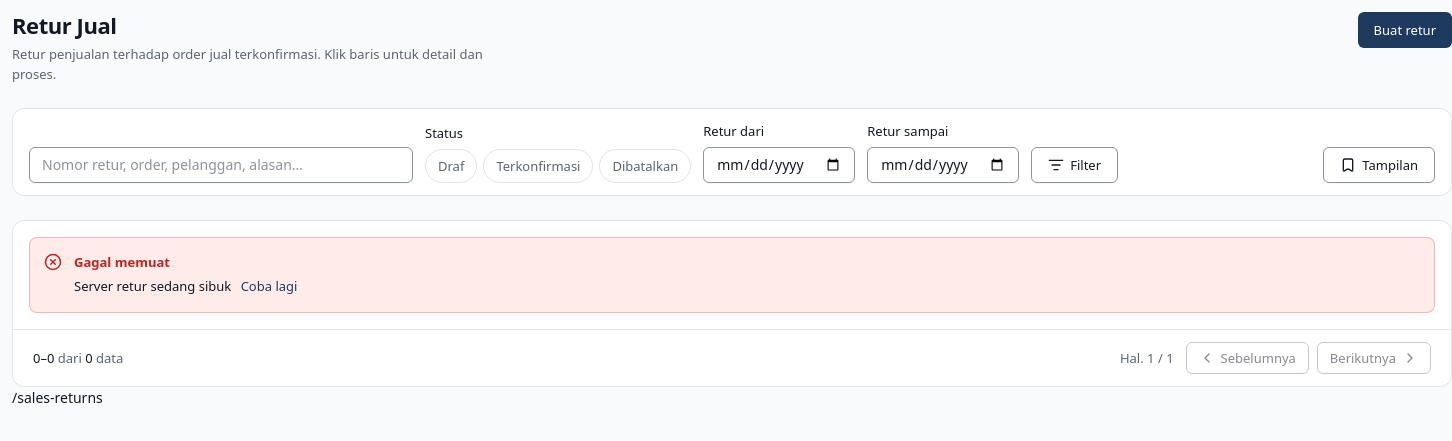
Scenario: daftar retur jual › galat memuat menampilkan pesan server dan Coba lagi memuat ulang
Expected: the text "Server retur sedang sibuk Coba lagi" is shown, [74,274,303,298]
Click the button "Coba lagi": [269, 286] box [235,274,303,298]
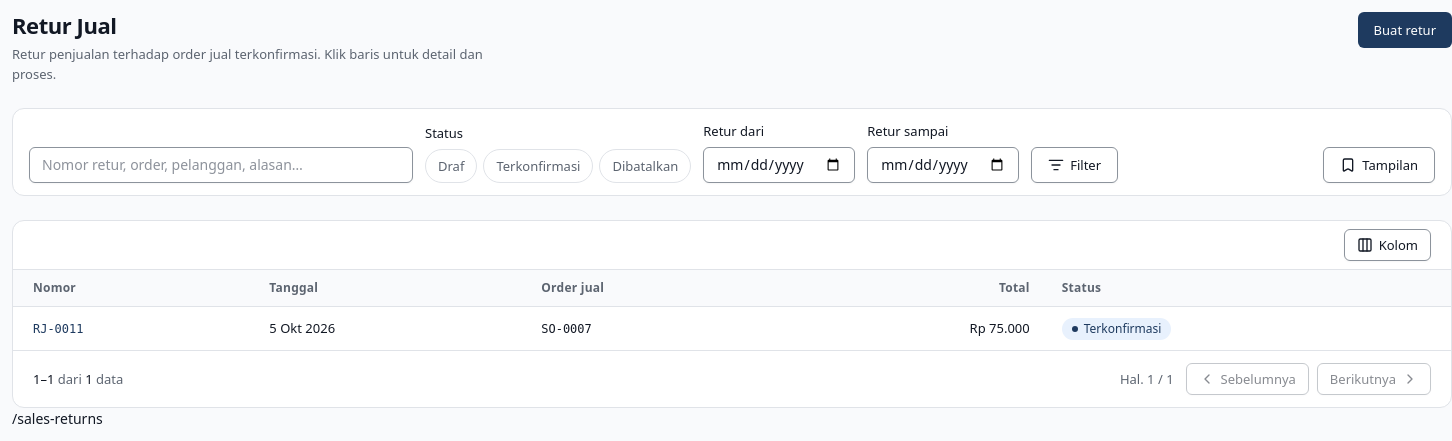
Now the text "RJ-0011" is shown, box [33,318,83,338]
